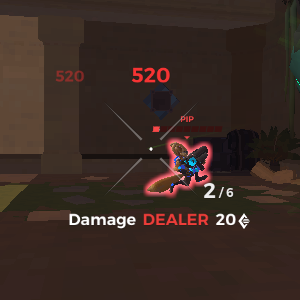model: (143, 138, 215, 199)
